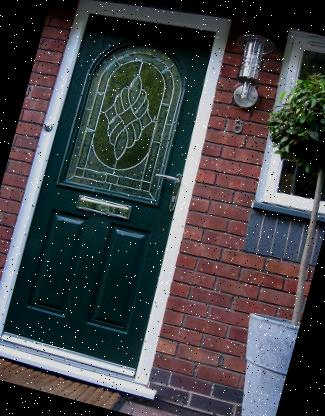door: (0, 0, 240, 396)
